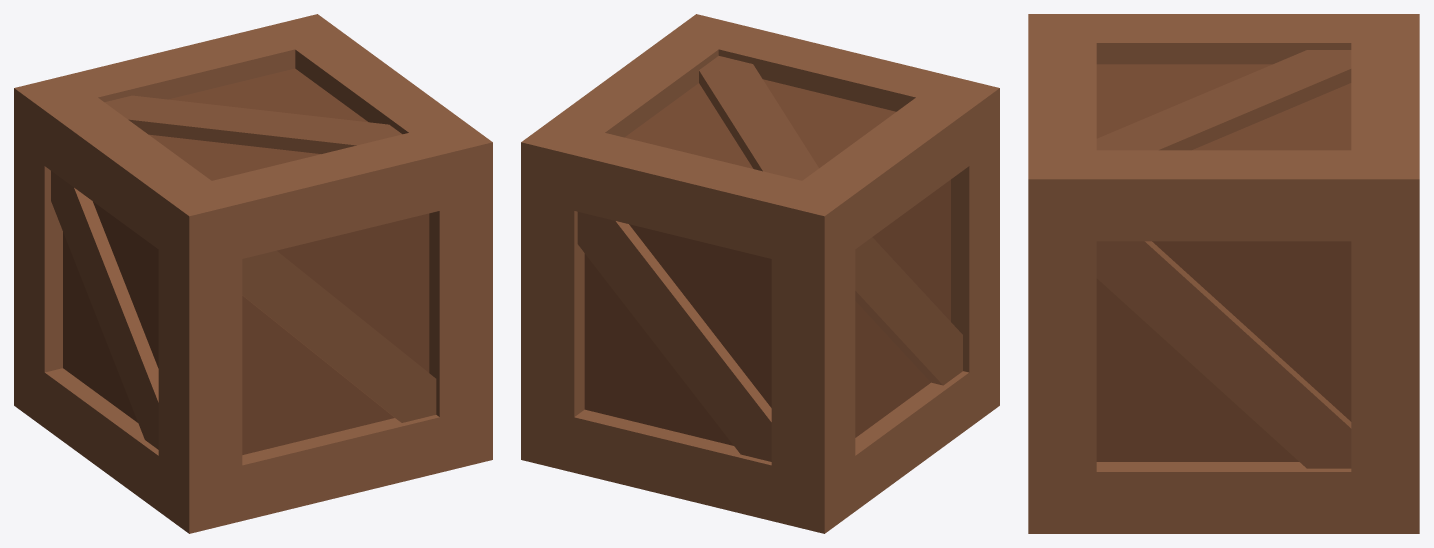
File: Destructible.fbx
3 views of the same model, side by side, from view 1: azimuth 30°, elevation 25°; view 2: azimuth 150°, elevation 25°; view 3: azimuth 270°, elevation 25° (orthographic). The views are drawn at different scales.
Parts seen in each view (by area): view 1: Bar; view 2: Bar; view 3: Bar.
Part boxes in pixels (x1,y1,x2,y2): Bar: (14, 14, 492, 533); Bar: (521, 14, 999, 533); Bar: (1028, 14, 1419, 533).
Size of the model in its own units: 200 by 200 by 200.
